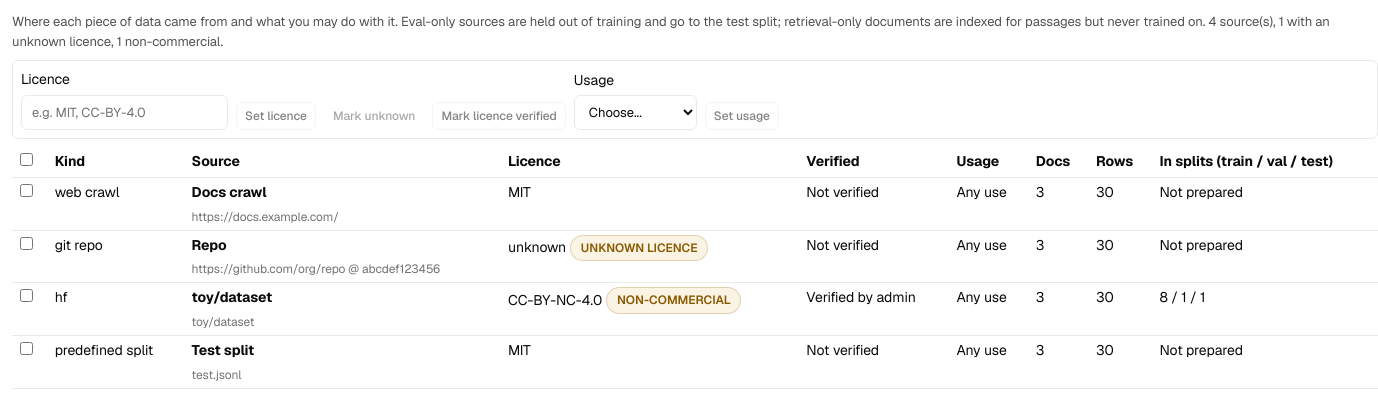
Test case: ProvenancePanel › bulk-sets usage and refreshes; locked rows disable the usage control
The image size is (1378, 406).
Check: the row with test id "prov-row-1" is shown, box [12, 177, 1377, 230]
Click the checkbox with test id "prov-pick-1" at x=26, y=190, box [20, 184, 33, 197]
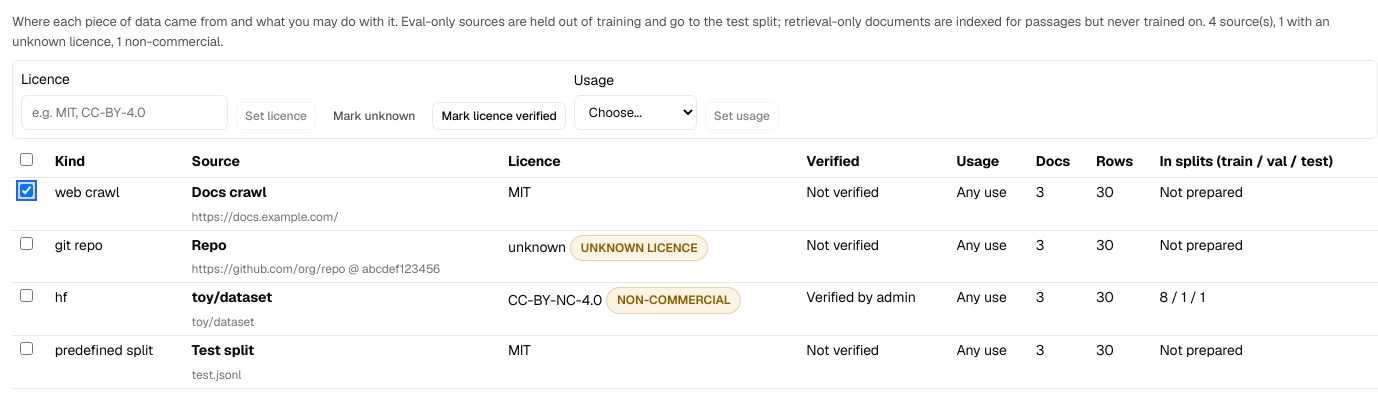
Click the checkbox with test id "prov-pick-2" at x=26, y=243, box [20, 237, 33, 250]
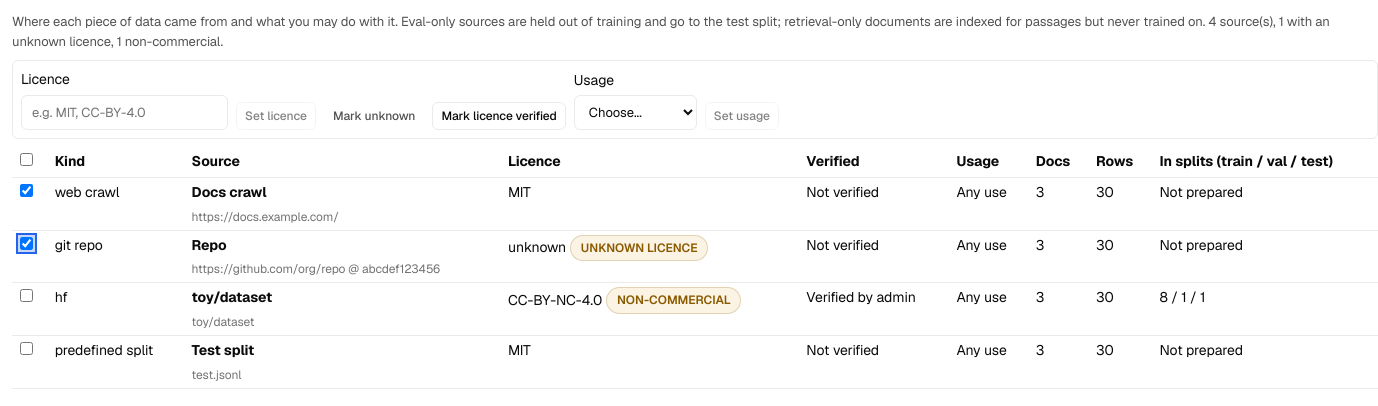
Select "Eval only" in the dropdown with test id "prov-usage-select" at x=635, y=113, box [574, 95, 697, 130]
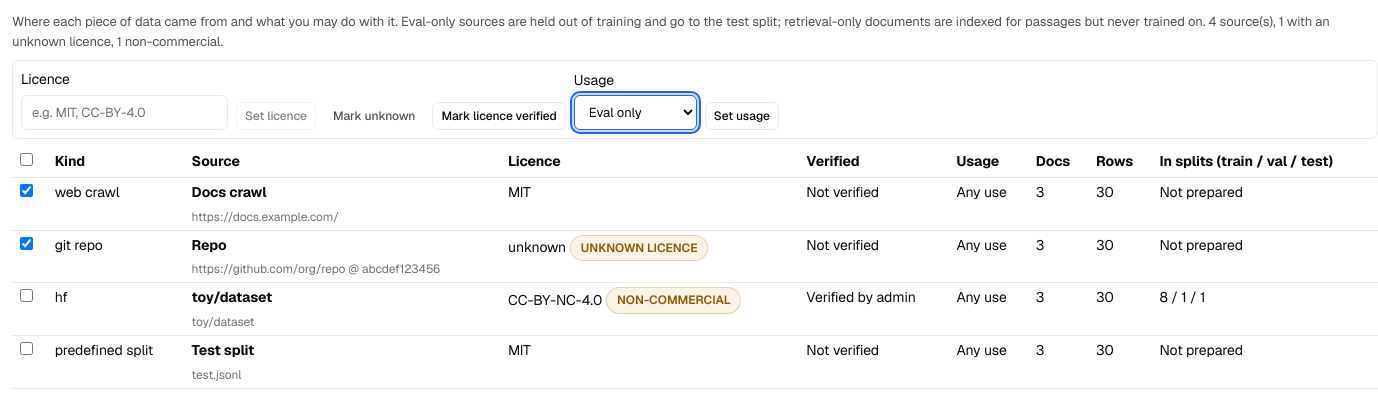
Click the button with test id "prov-set-usage" at x=742, y=116, box [705, 102, 779, 130]
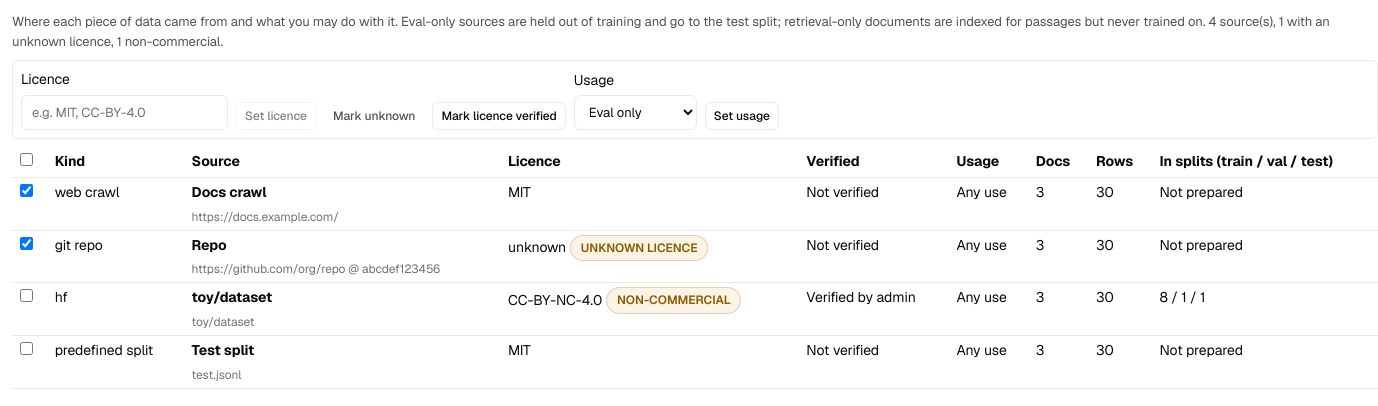
Click the checkbox with test id "prov-pick-4" at x=26, y=348, box [20, 342, 33, 355]
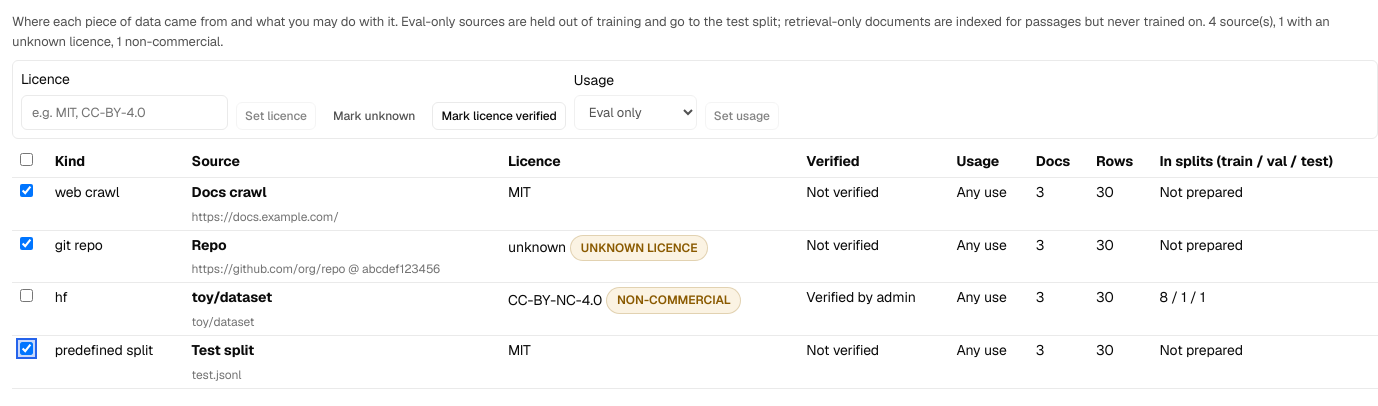
Check: the dropdown with test id "prov-usage-select" is disabled, box [574, 95, 697, 130]
Check: the button with test id "prov-set-usage" is disabled, box [705, 102, 779, 130]
